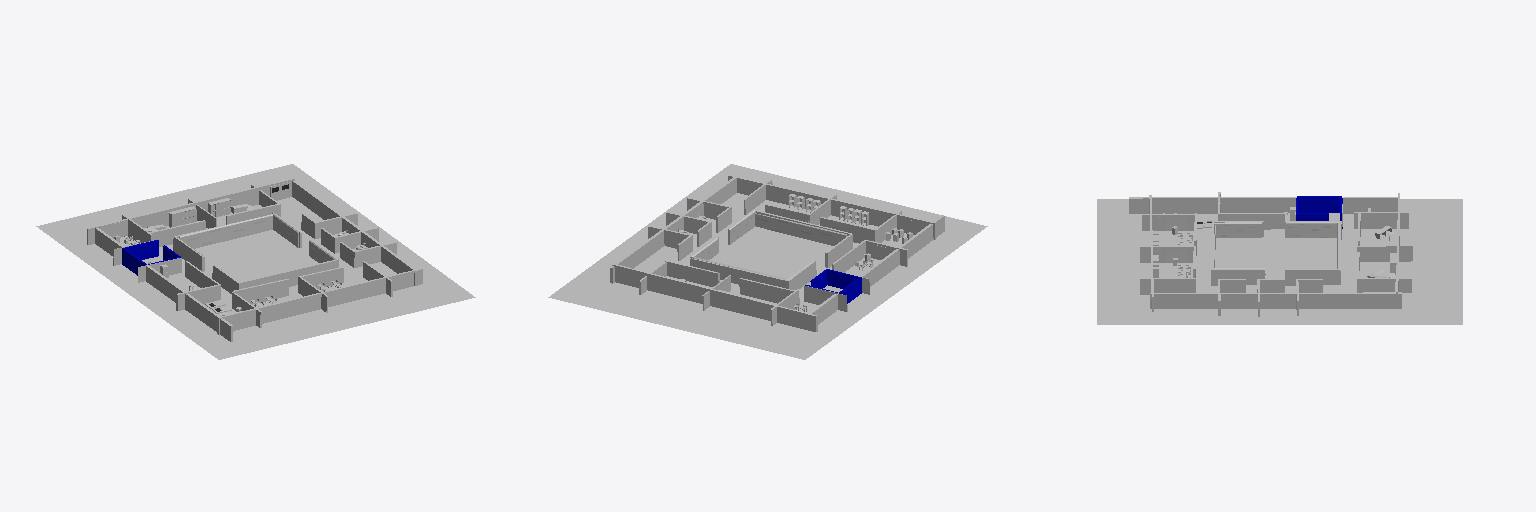
Rendered from gamemapnodoor.obj.
The picture shows the model from 3 angles: view 1: azimuth 30°, elevation 25°; view 2: azimuth 150°, elevation 25°; view 3: azimuth 270°, elevation 25°; orthographic projection.
Visible parts, largest first — view 1: floor, grass, Cube.001, Cube.003, Cube.004, Cube.025, HEDGE.006, Cube.017, Cube.038, Cube.040, Cube.012, Cube.006 (+1 smaller); view 2: floor, grass, Cube.004, Cube.001, Cube.003, Cube.025, HEDGE.005, Cube.018, Cube.041, Cube.040, Cube.038; view 3: floor, grass, Cube.003, Cube.025, Cube, Cube.008, Cube.014, HEDGE.002, Cube.007, Cube.013, HEDGE.007, Cube.019 (+5 smaller).
Part boxes in pixels (left/top/right/bottom): floor: left=36, top=164, right=475, bottom=359; grass: left=195, top=230, right=318, bottom=281; Cube.001: left=217, top=268, right=422, bottom=334; Cube.003: left=290, top=178, right=417, bottom=285; Cube.004: left=87, top=178, right=294, bottom=244; Cube.025: left=145, top=264, right=233, bottom=341; HEDGE.006: left=179, top=214, right=272, bottom=248; Cube.017: left=239, top=260, right=338, bottom=288; Cube.038: left=232, top=279, right=288, bottom=304; Cube.040: left=149, top=220, right=205, bottom=246; Cube.012: left=176, top=284, right=220, bottom=310; Cube.006: left=353, top=242, right=397, bottom=267; floor: left=548, top=164, right=987, bottom=359; grass: left=709, top=226, right=833, bottom=279; Cube.004: left=612, top=264, right=817, bottom=331; Cube.001: left=728, top=175, right=935, bottom=239; Cube.003: left=610, top=176, right=737, bottom=283; Cube.025: left=860, top=215, right=944, bottom=286; HEDGE.005: left=755, top=213, right=846, bottom=245; Cube.018: left=690, top=258, right=788, bottom=288; Cube.041: left=665, top=260, right=719, bottom=286; Cube.040: left=739, top=278, right=794, bottom=303; Cube.038: left=819, top=217, right=875, bottom=243; floor: left=1097, top=199, right=1462, bottom=324; grass: left=1215, top=237, right=1336, bottom=278; Cube.003: left=1150, top=292, right=1401, bottom=308; Cube.025: left=1129, top=197, right=1296, bottom=213; Cube: left=1343, top=197, right=1397, bottom=213; Cube.008: left=1354, top=212, right=1408, bottom=228; Cube.014: left=1140, top=278, right=1195, bottom=294; HEDGE.002: left=1286, top=222, right=1338, bottom=237; Cube.007: left=1357, top=246, right=1412, bottom=261; Cube.013: left=1357, top=278, right=1411, bottom=292; HEDGE.007: left=1214, top=222, right=1261, bottom=237; Cube.019: left=1285, top=269, right=1339, bottom=285.
Bounding box in the file's own units: 97.19 × 8.16 × 120.